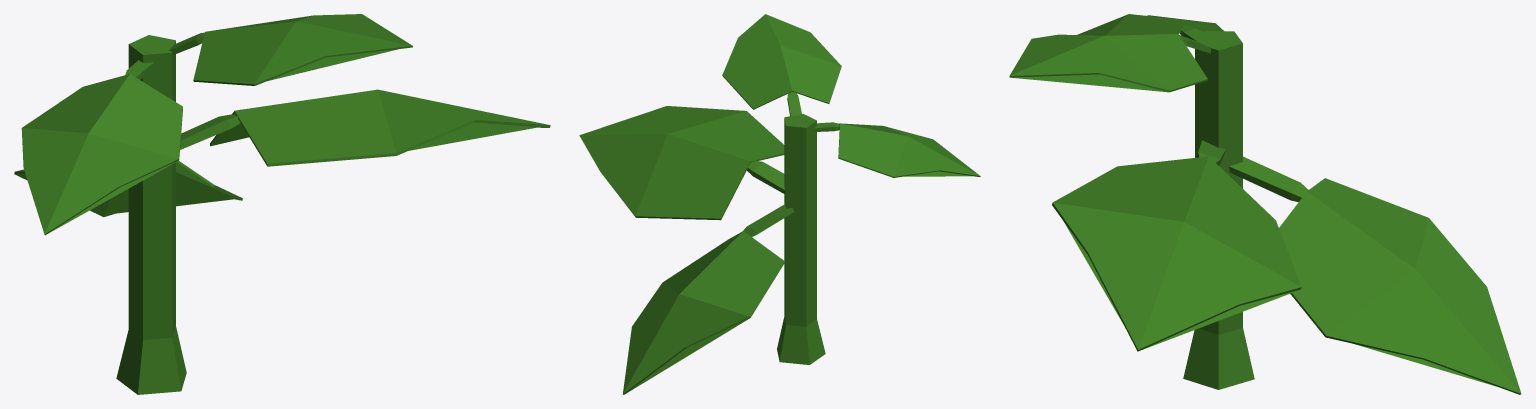
Rendered from ChiliPlant_Stage01.fbx.
3 views of the same model, side by side, from view 1: azimuth 30°, elevation 25°; view 2: azimuth 150°, elevation 25°; view 3: azimuth 270°, elevation 25° (orthographic). The views are drawn at different scales.
Parts seen in each view (by area): view 1: ChiliPlant_Stage01; view 2: ChiliPlant_Stage01; view 3: ChiliPlant_Stage01.
Boxes of the visible parts, <box> form: ChiliPlant_Stage01: <box>14,14,550,394</box>; ChiliPlant_Stage01: <box>579,14,980,394</box>; ChiliPlant_Stage01: <box>1009,14,1521,394</box>.
Bounding box in the file's own units: 174 × 117 × 143.
